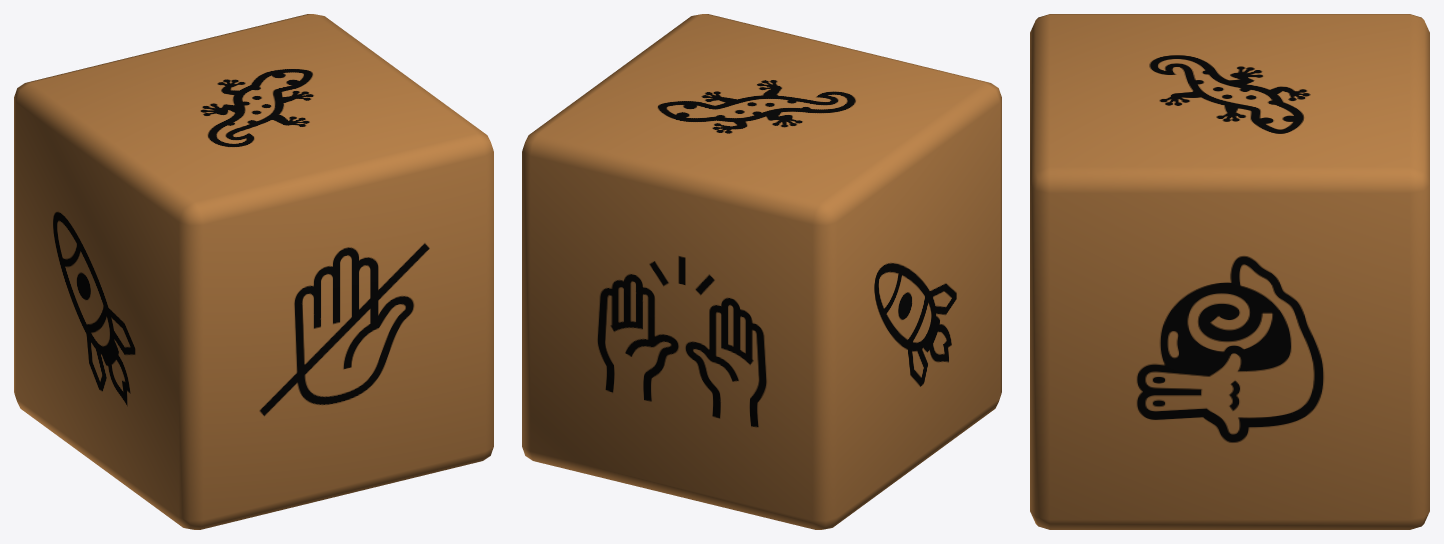
The model's file is BoulderDie01.glb.
3 renders of one model, left to right at view 1: azimuth 30°, elevation 25°; view 2: azimuth 150°, elevation 25°; view 3: azimuth 270°, elevation 25°, orthographic. The views are drawn at different scales.
Visible parts, largest first — view 1: Cube; view 2: Cube; view 3: Cube.
Boxes of the visible parts, box(x1,y1,x2,y2) form: Cube: box(14, 14, 493, 529); Cube: box(522, 14, 1001, 529); Cube: box(1030, 14, 1429, 529).
Size of the model in its own units: 2 by 2 by 2.
Materials: 1 (1 with a texture image).
